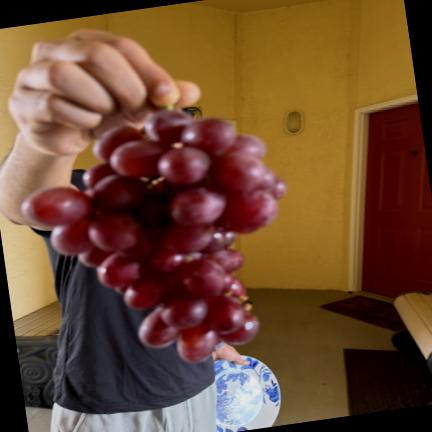grape_cluster: (21, 104, 286, 363)
